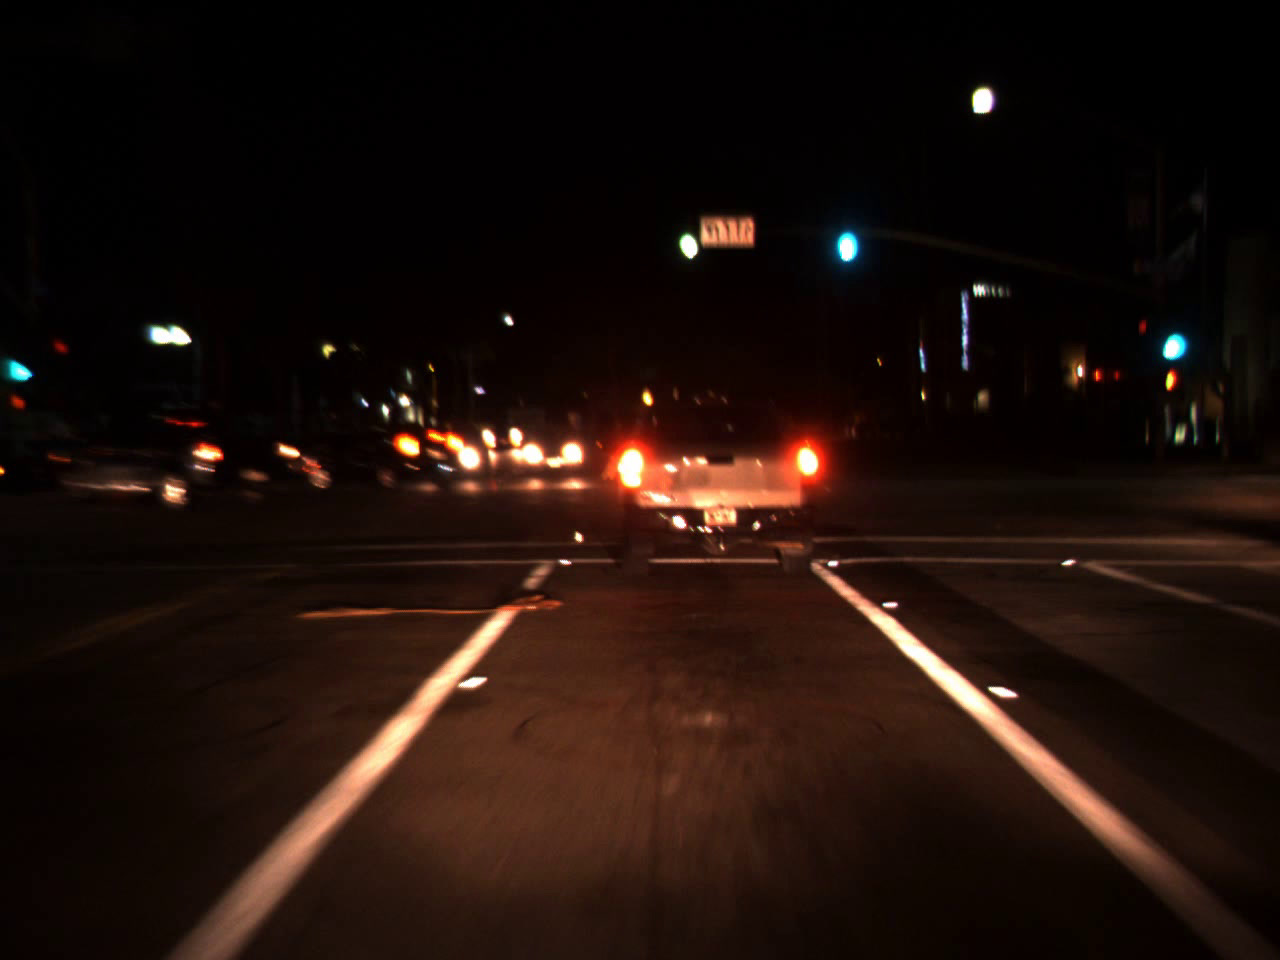go: (1153, 299, 1190, 371), (828, 196, 862, 271), (671, 200, 701, 269), (0, 335, 37, 389)
